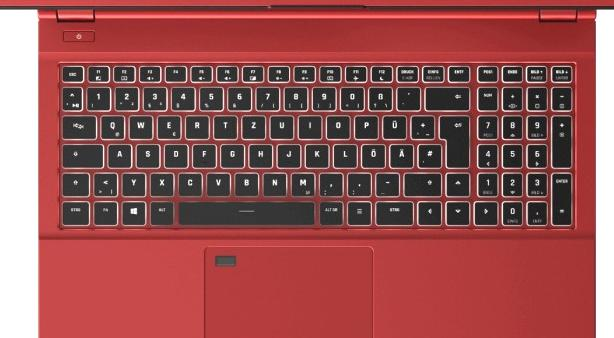0: (338, 84, 363, 109)
1: (85, 84, 110, 109)
2: (112, 84, 138, 109)
3: (141, 84, 166, 109)
4: (170, 84, 194, 109)
5: (198, 84, 222, 109)
6: (225, 84, 251, 109)
7: (254, 84, 279, 109)
8: (282, 84, 306, 109)
9: (310, 84, 335, 109)
a: (105, 141, 131, 166)
accent: (395, 84, 419, 108)
ae: (387, 141, 412, 166)
alt-left: (148, 198, 173, 223)
altgr-right: (317, 198, 342, 223)
b: (232, 169, 257, 194)
c: (176, 170, 201, 194)
caret: (60, 84, 81, 109)
comma: (317, 170, 341, 194)
d: (162, 141, 187, 166)
del: (423, 84, 468, 108)
e: (155, 112, 179, 138)
enter: (436, 112, 468, 166)
f: (190, 141, 215, 166)
g: (218, 141, 243, 166)
h: (246, 141, 271, 166)
hash: (415, 140, 440, 166)
i: (296, 112, 320, 137)
j: (275, 140, 299, 166)
k: (303, 140, 328, 166)
keyboard: (47, 50, 583, 235)
l: (331, 141, 356, 166)
less: (91, 169, 116, 195)
m: (288, 169, 313, 194)
minus: (373, 170, 398, 194)
n: (261, 169, 285, 194)
o: (324, 112, 349, 137)
oe: (359, 141, 384, 166)
p: (352, 112, 377, 137)
plus: (408, 112, 433, 138)
point: (345, 170, 370, 194)
q: (98, 112, 123, 138)
r: (183, 112, 208, 138)
s: (134, 141, 158, 166)
shift-left: (59, 170, 88, 195)
shift-lock: (59, 141, 102, 166)
shift-right: (401, 169, 440, 195)
space: (176, 198, 313, 224)
ss: (366, 84, 391, 109)
strg-left: (58, 198, 89, 224)
strg-right: (373, 198, 413, 224)
t: (212, 112, 236, 137)
tab: (59, 112, 95, 138)
u: (268, 112, 292, 138)
ue: (380, 112, 405, 138)
v: (204, 169, 229, 194)
w: (127, 112, 152, 138)
x: (148, 170, 173, 194)
y: (120, 170, 145, 195)
z: (240, 112, 264, 137)
